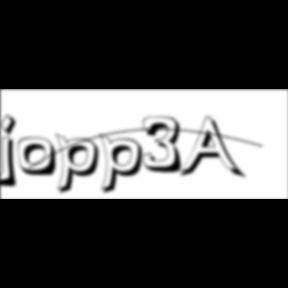3: (143, 116, 189, 176)
A: (179, 116, 248, 182)
j: (0, 113, 24, 191)
o: (18, 137, 60, 179)
p: (56, 132, 106, 198), (100, 132, 150, 198)
